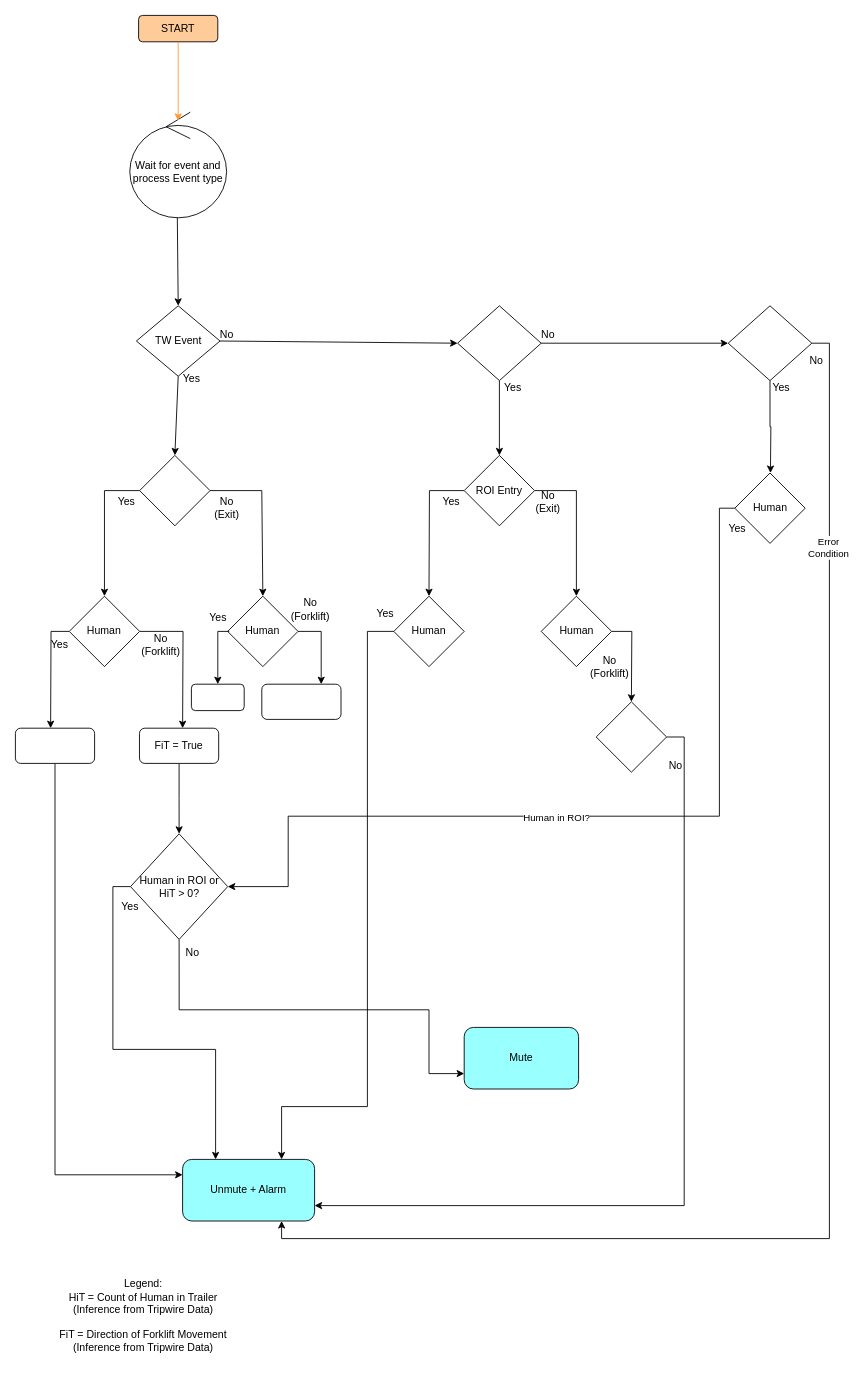
Image size: 863x1386. Some labels were removed from this diagram. The shapes that lost their labels are listed below. From the top down, each one's centre as x and y in pixels, then its label:
At point (499, 343): "ROI Event".
At point (769, 343): "Safety Area Violation".
At point (174, 490): "TW Entry".
At point (217, 697): "HiT--".
At point (301, 701): "FiT = False".
At point (55, 745): "HiT++".
At point (631, 736): "FiT == True?".
